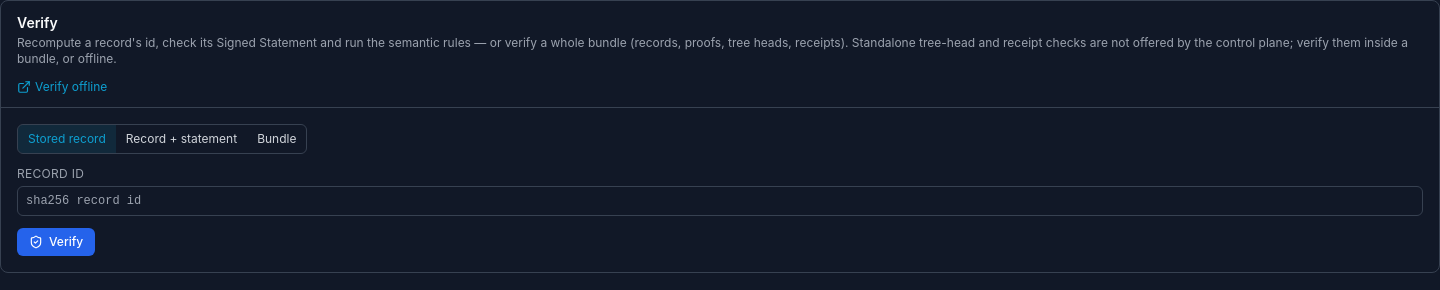
Test: VerifyPanel › says what it does not offer and links to the offline verifier
Check: the element with test id "verify-panel" shows "Standalone tree-head and receipt checks are not offered by the control plane", box [17, 35, 1408, 66]
Click the button with test id "verify-run" at (56, 242), box [17, 228, 95, 256]
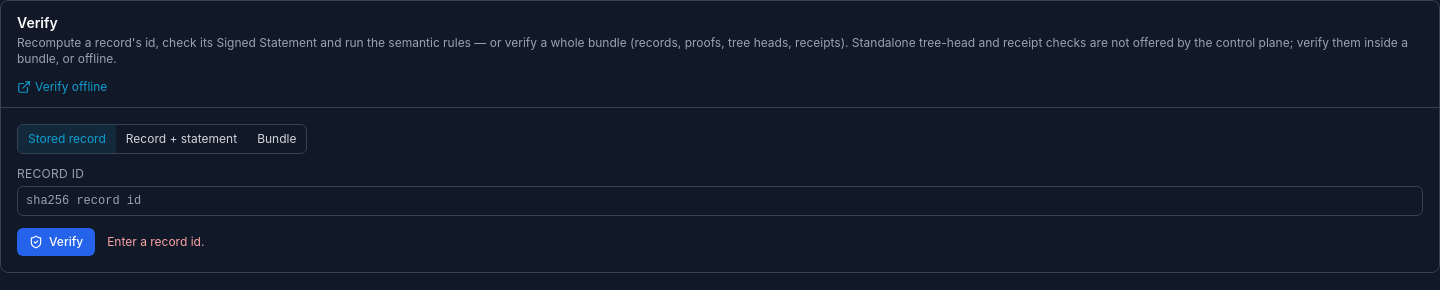
Check: the text with test id "verify-input-error" reads "Enter a record id.", box [107, 234, 204, 249]
